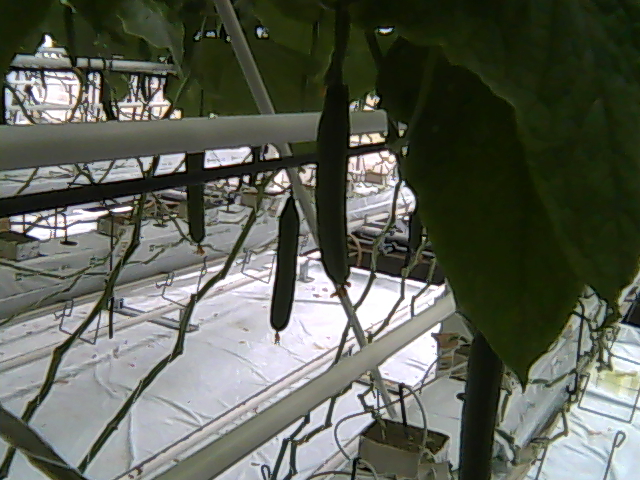concombre: (313, 68, 357, 298), (456, 329, 510, 480)
